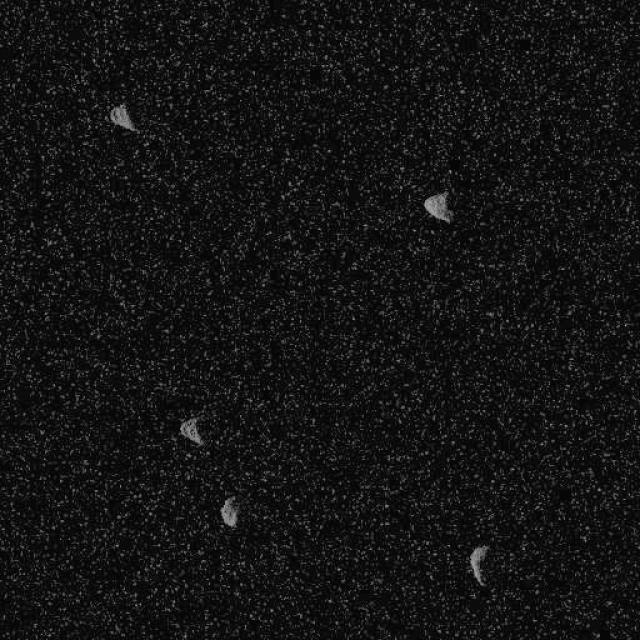D2: (421, 190, 454, 224), (108, 101, 138, 134), (468, 544, 488, 586), (178, 415, 204, 446), (219, 493, 239, 528)
